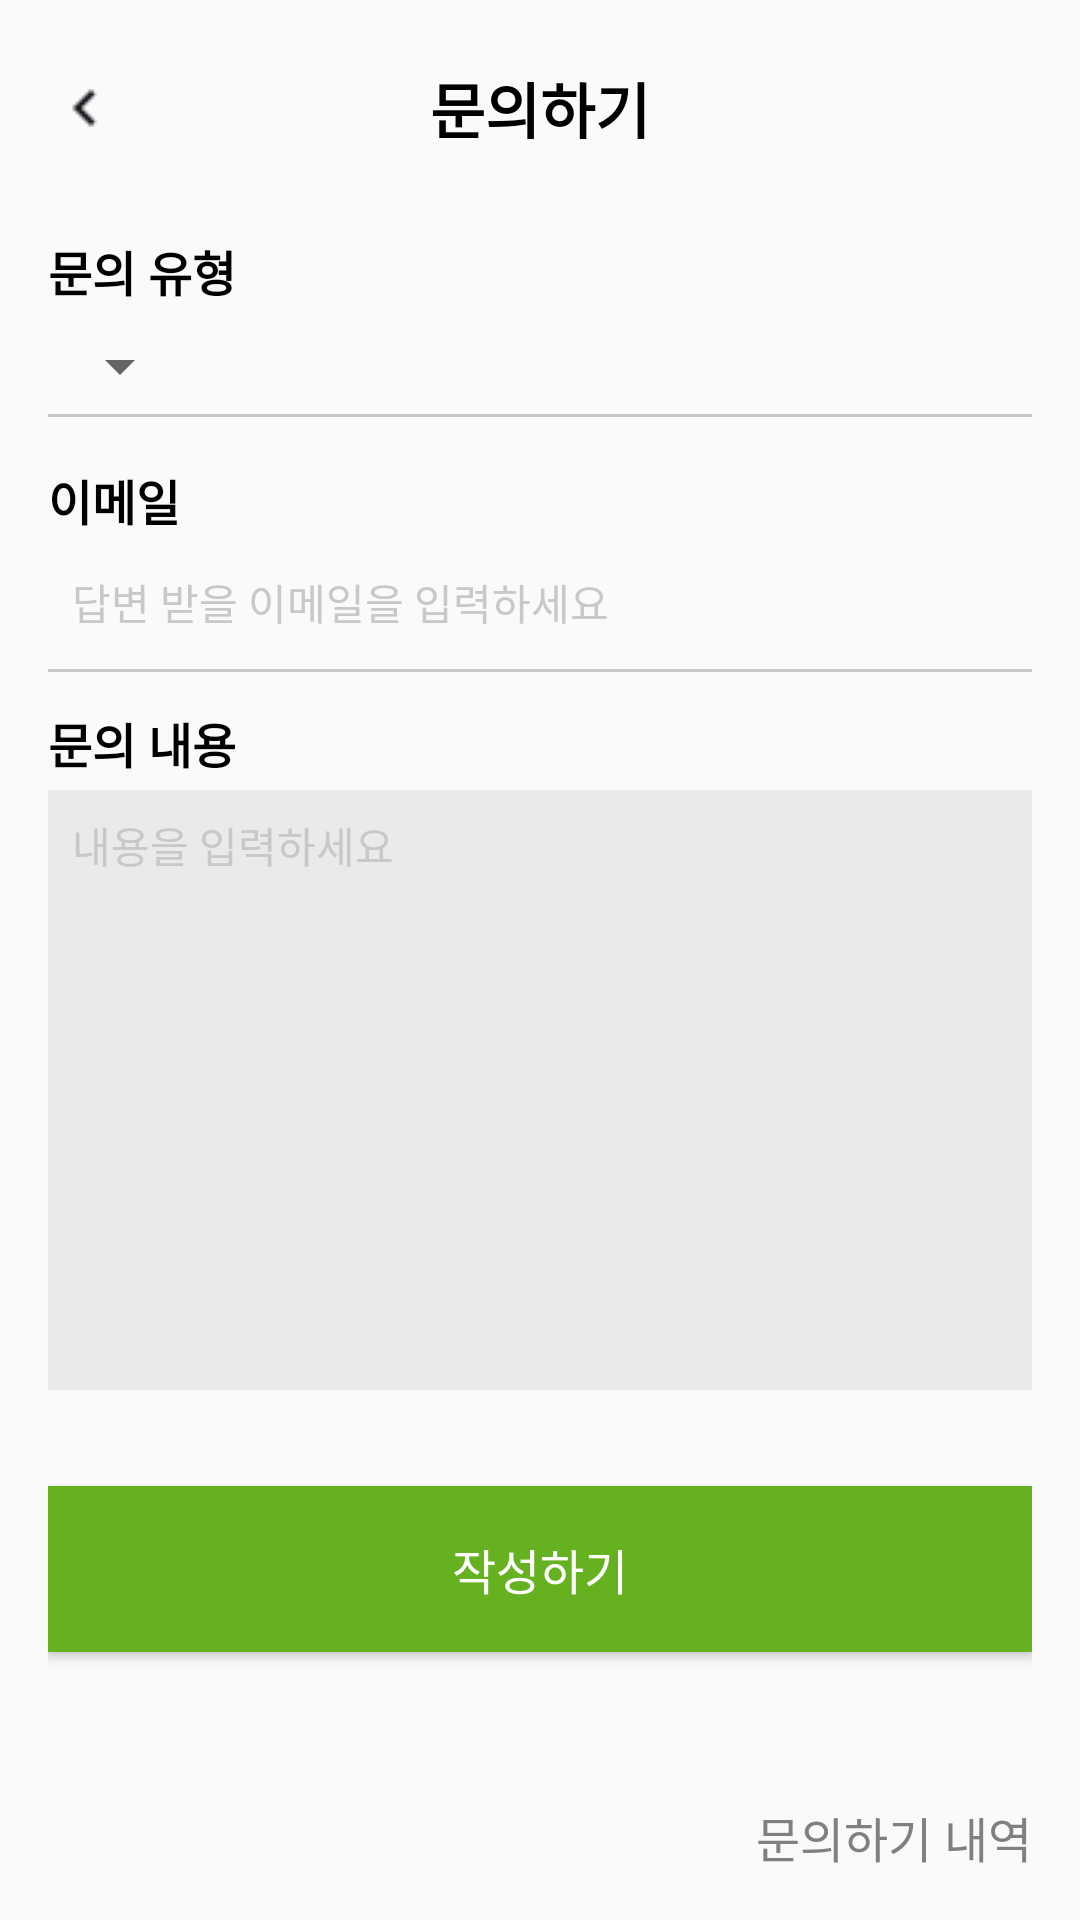

Screen size 1080px×1920px. Icon name, then its center in pixels as [x,y]:
Back Button: [84,108]
